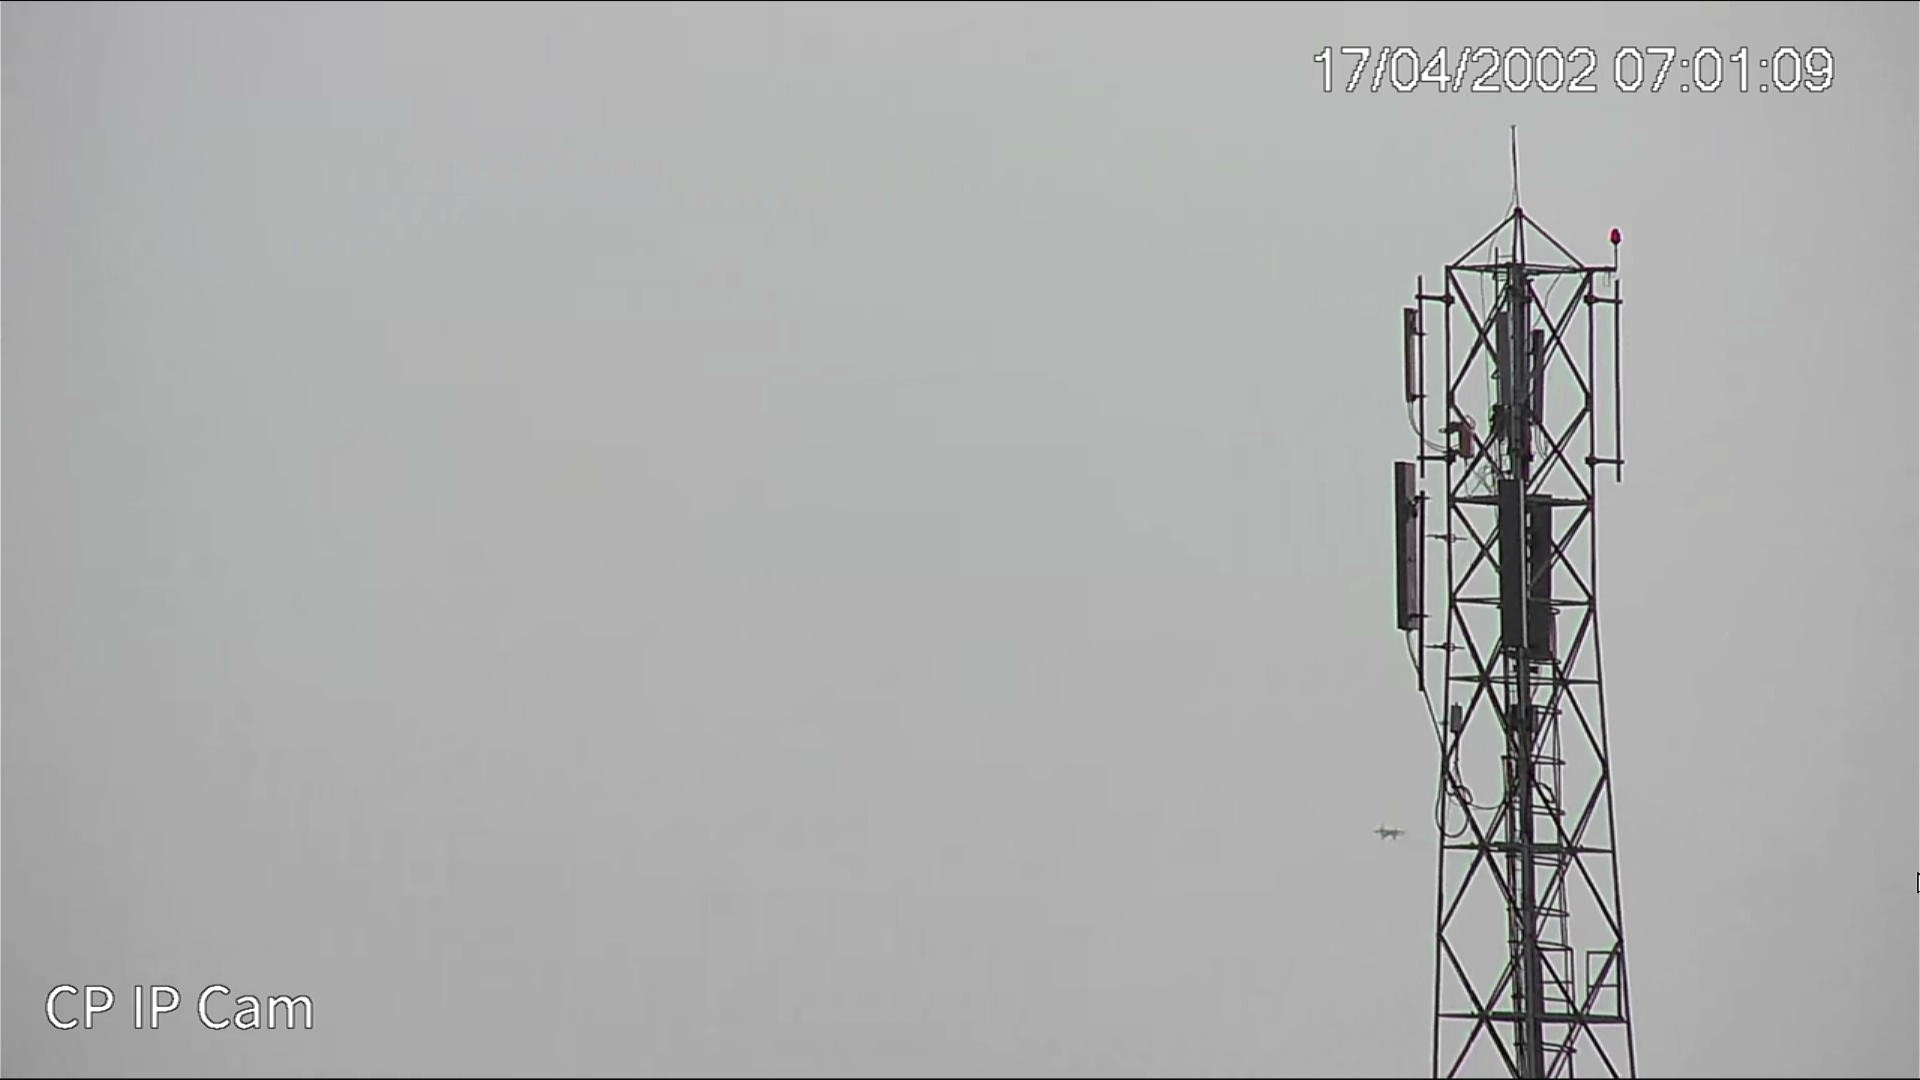SU_30: (1371, 824, 1406, 840)
